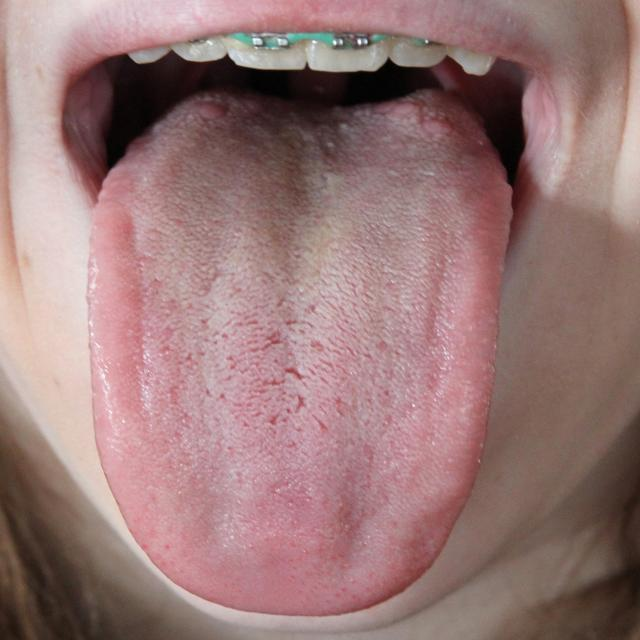baitaishe: (87, 88, 514, 616)
